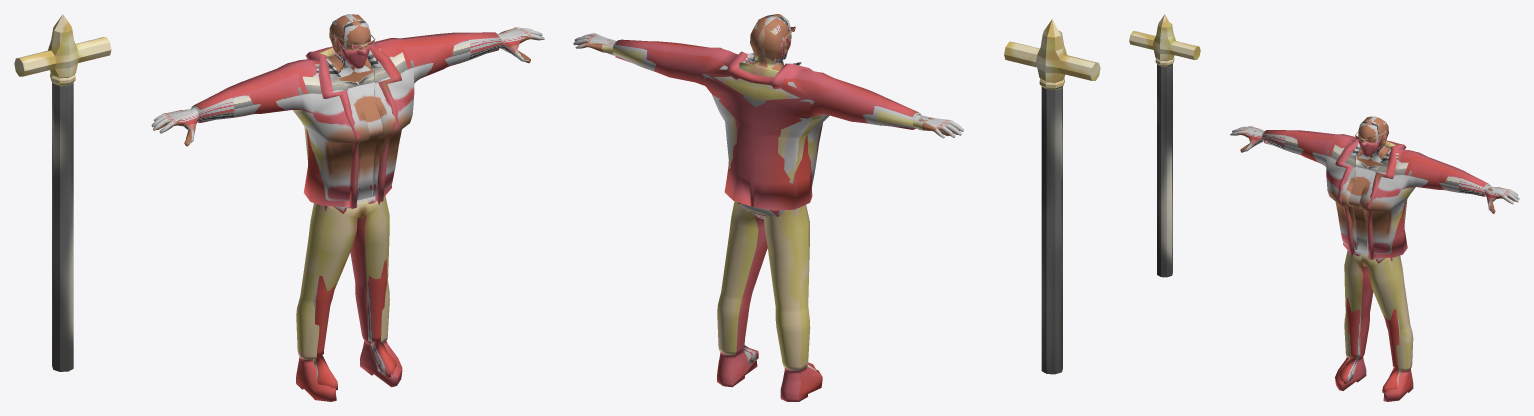
Rendered from chefaotexturizado.fbx.
The picture shows the model from 3 angles, left to right: view 1: azimuth 30°, elevation 25°; view 2: azimuth 150°, elevation 25°; view 3: azimuth 330°, elevation 25°; orthographic projection. The views are drawn at different scales.
Parts seen in each view (by area): view 1: BaseMash_Boss, BaseMash_Minion; view 2: BaseMash_Boss, BaseMash_Minion; view 3: BaseMash_Boss, BaseMash_Minion.
Boxes of the visible parts, x1,y1,x2,y2 form: BaseMash_Boss: (14,14,540,401); BaseMash_Minion: (151,14,544,390); BaseMash_Boss: (577,14,1100,401); BaseMash_Minion: (573,14,963,371); BaseMash_Boss: (1129,14,1516,401); BaseMash_Minion: (1230,116,1519,393).
Size of the model in its own units: 725 by 579 by 114.
